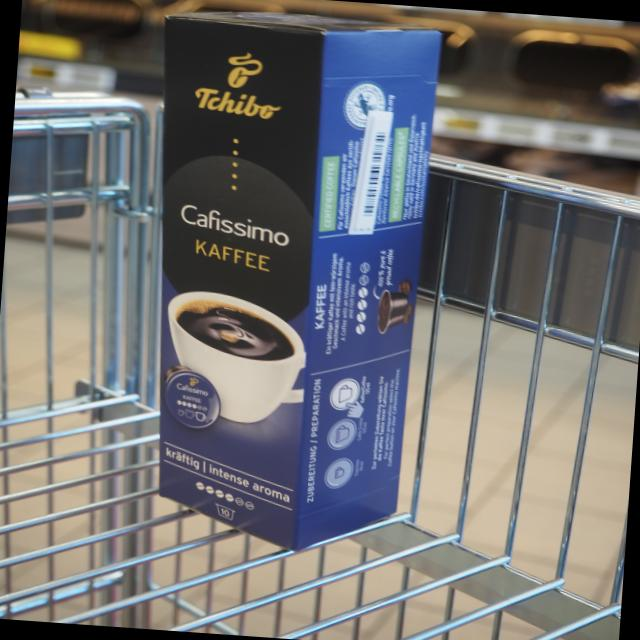Simo Kaffee Kraft: (151, 10, 333, 557)
